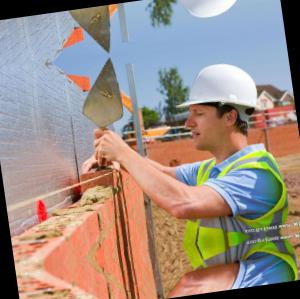helmet: (168, 48, 275, 166), (159, 1, 258, 37)
